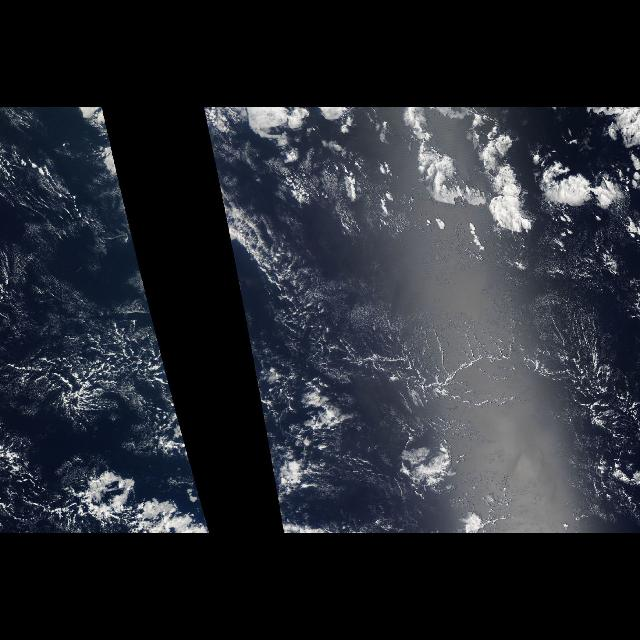Sugar: (202, 110, 636, 266)
